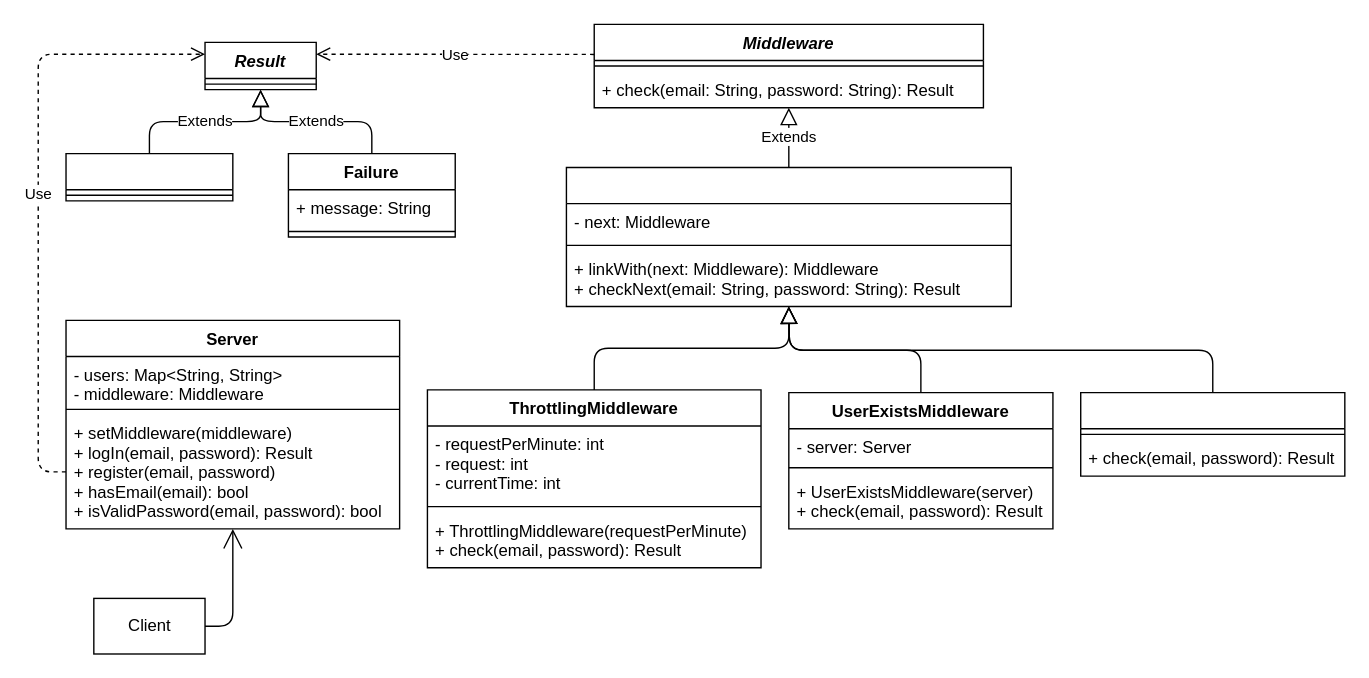
The diagram is 1369 pixels wide and 678 high, and some of its shapes have lost their labels. Each missing label, with the box of its shape:
BaseMiddleware: (565, 166, 1011, 306)
RoleCheckMiddleware: (1079, 391, 1345, 476)
Success: (65, 152, 233, 201)
